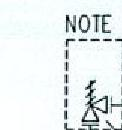psv: (80, 78, 108, 123)
